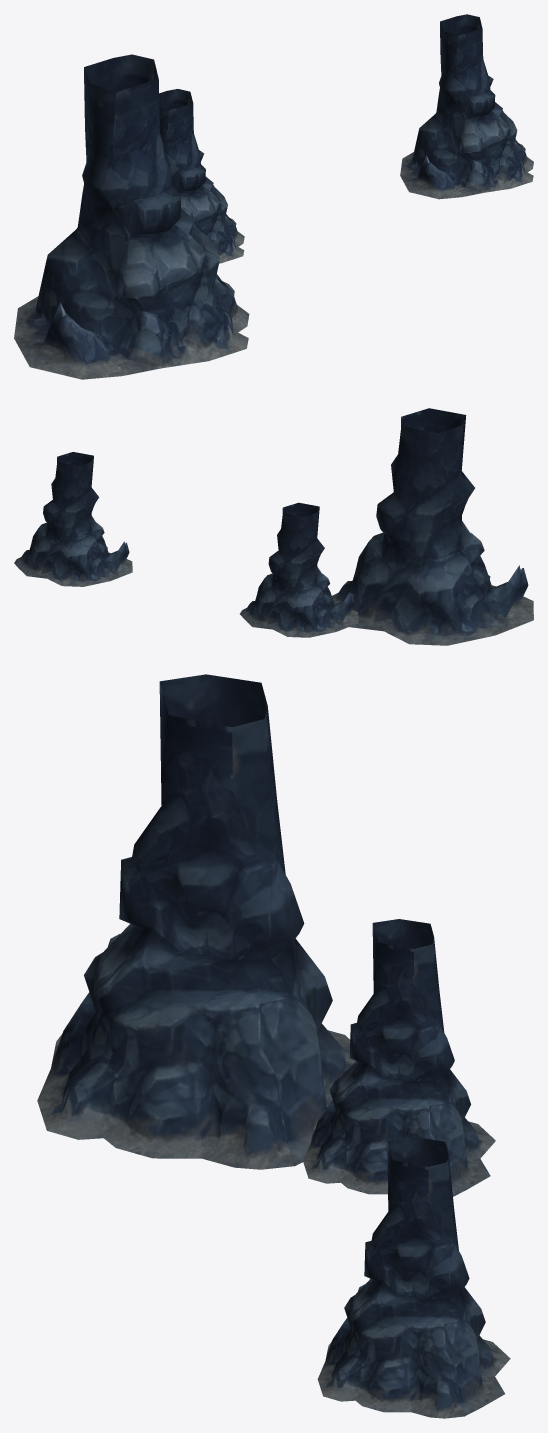
Rendered from Area_13_16.fbx.
3 renders of one model, top to bottom at view 1: azimuth 30°, elevation 25°; view 2: azimuth 150°, elevation 25°; view 3: azimuth 270°, elevation 25°, orthographic. The views are drawn at different scales.
Visible parts, largest first — view 1: Area_13_16; view 2: Area_13_16; view 3: Area_13_16.
Boxes of the visible parts, x1,y1,x2,y2 form: Area_13_16: (14, 14, 533, 379); Area_13_16: (14, 408, 533, 645); Area_13_16: (37, 674, 510, 1418).
Bounding box in the file's own units: 5958 × 2436 × 2749.
